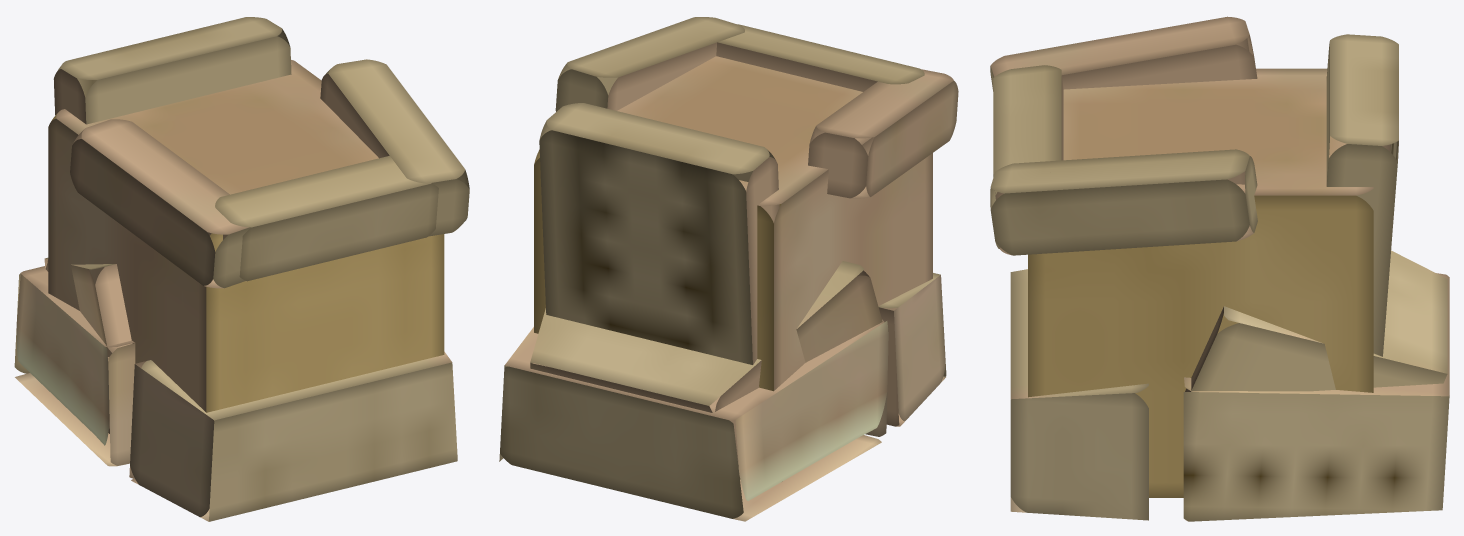
The picture shows the model from 3 angles, left to right: view 1: azimuth 30°, elevation 25°; view 2: azimuth 150°, elevation 25°; view 3: azimuth 270°, elevation 25°; orthographic projection. The views are drawn at different scales.
Visible parts, largest first — view 1: cube; view 2: cube; view 3: cube.
Part boxes in pixels (x1,y1,x2,y2): cube: (14,17,469,521); cube: (499,17,958,521); cube: (990,16,1449,521).
Size of the model in its own units: 0.3519 by 0.3565 by 0.4171.
